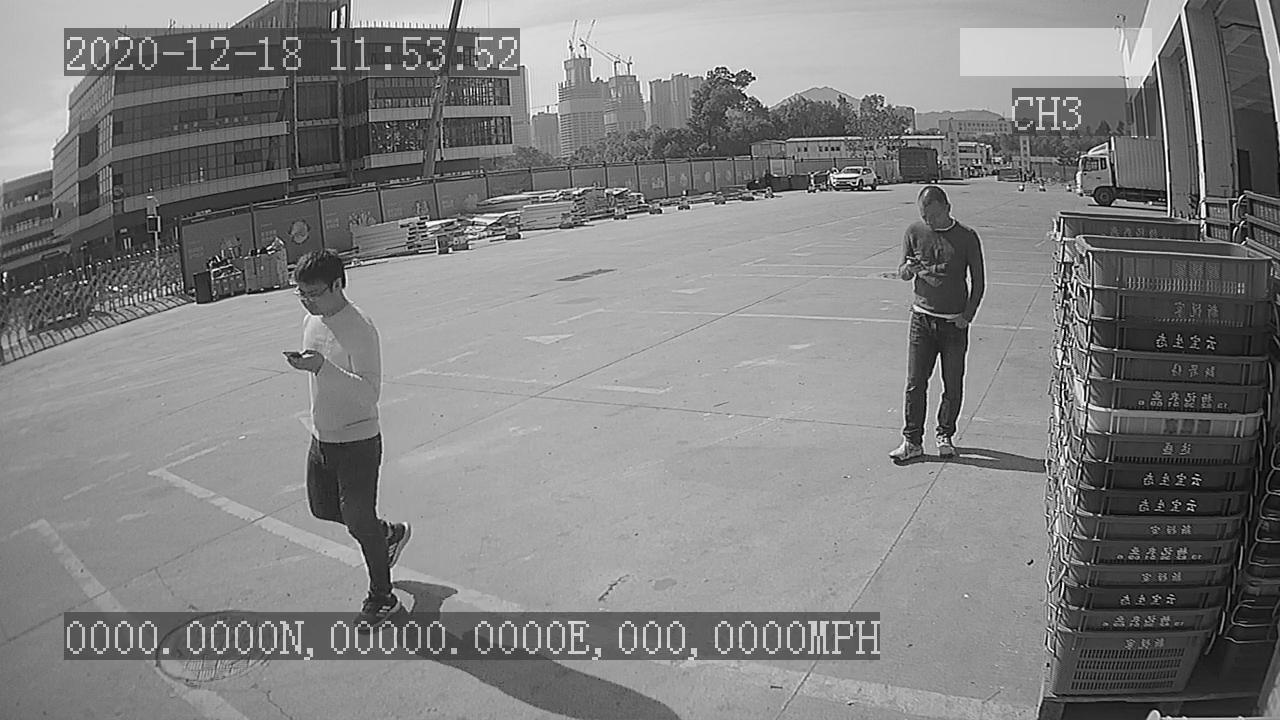person: (883, 181, 990, 474)
